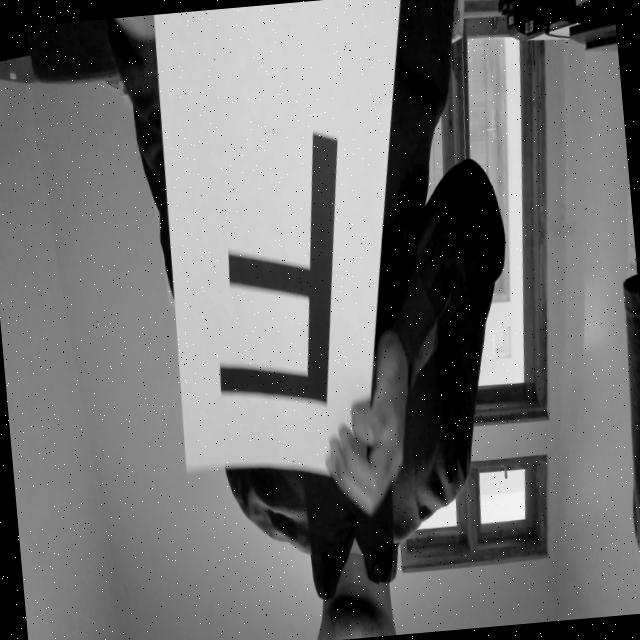f: (165, 105, 368, 437)
